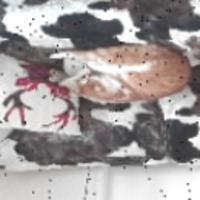asleep: (48, 41, 191, 106)
